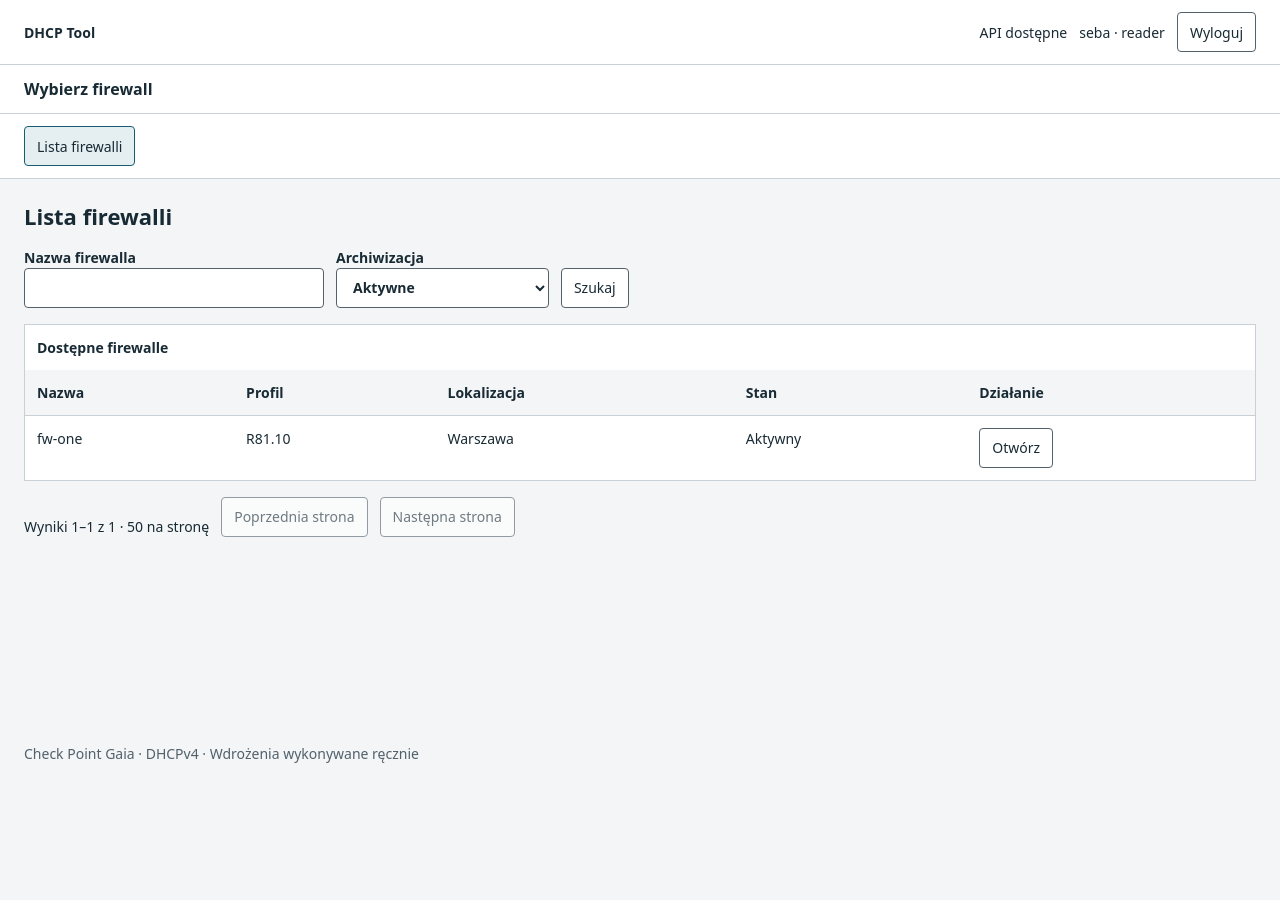
Scenario: shows only read actions for reader and persistent firewall context
Click the button with aria-label "Otwórz fw-one" at point(1016, 448), box [979,428,1053,468]
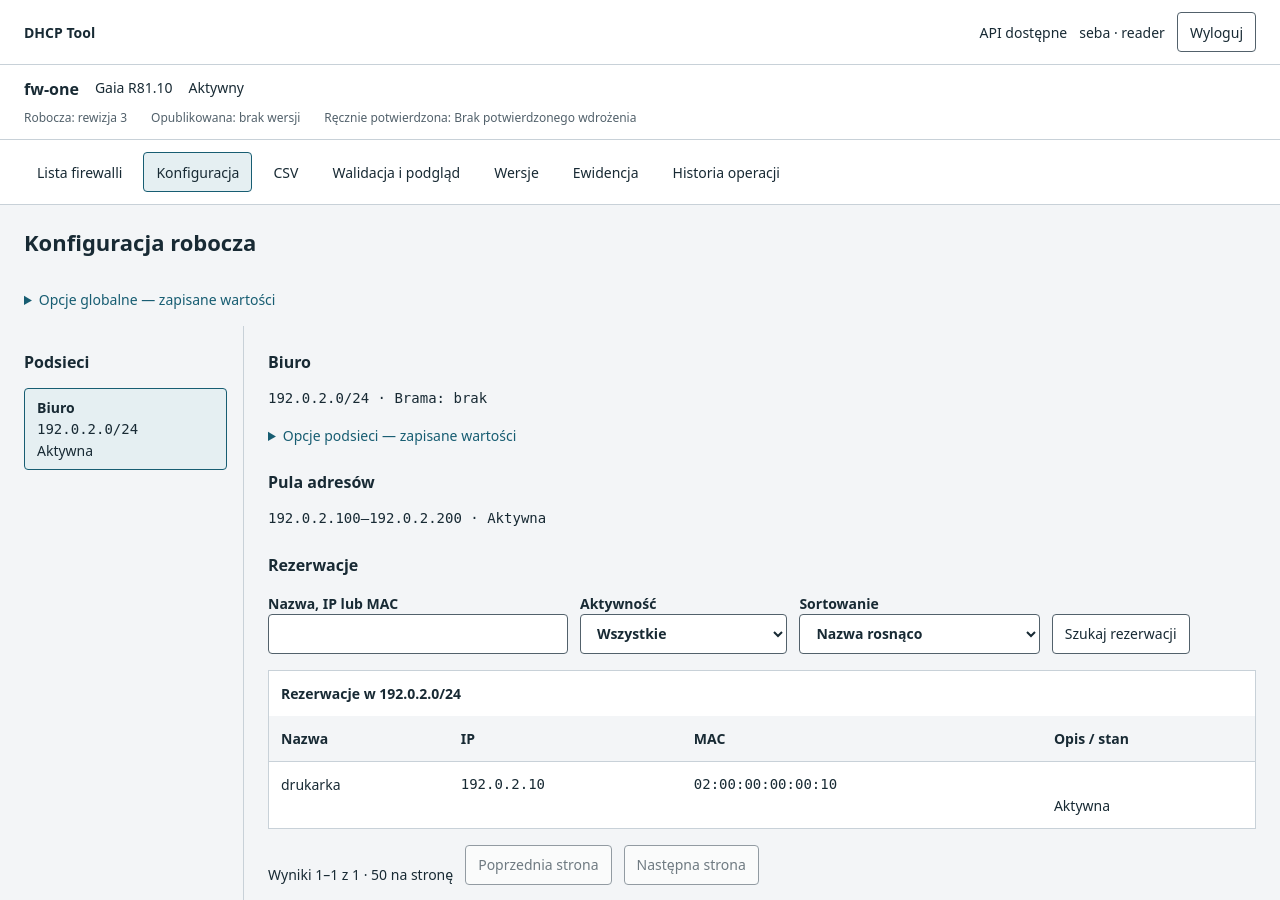
Expected: the heading "Konfiguracja robocza" is shown, [24,227,256,257]
Expected: the text "Gaia R81.10" is shown, [95,77,173,101]
